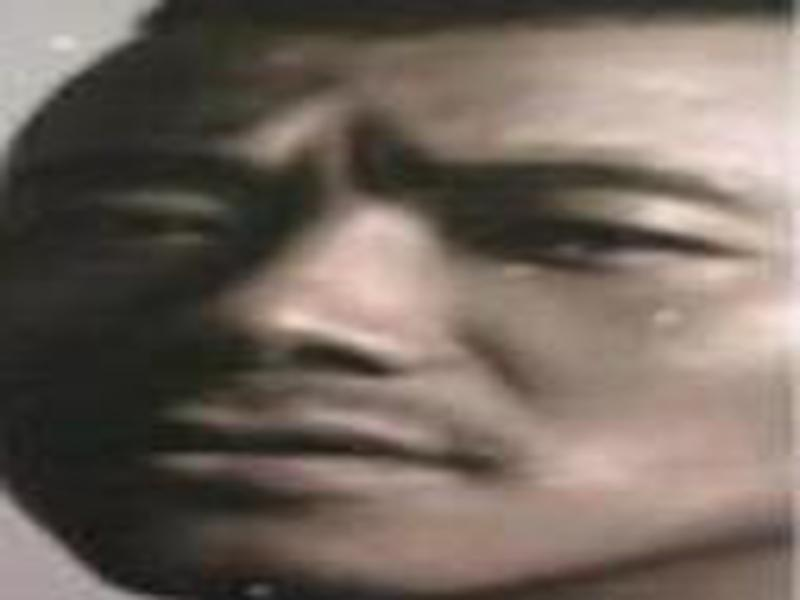without_mask: (6, 6, 787, 600)
